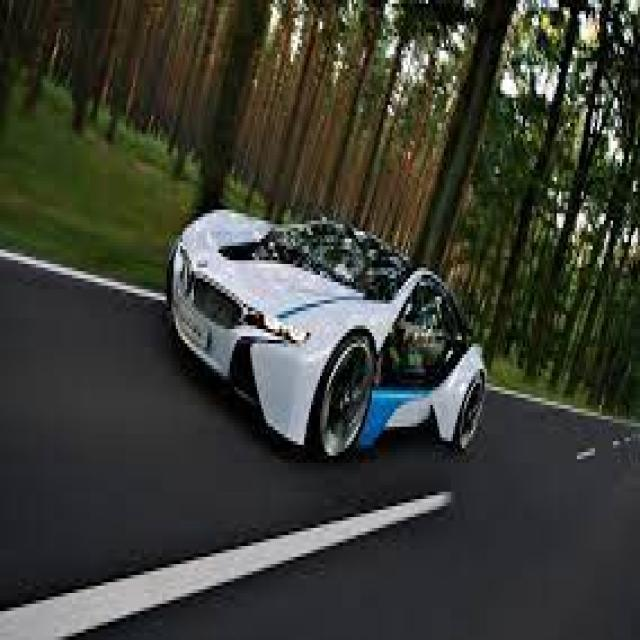car: (165, 208, 486, 451)
